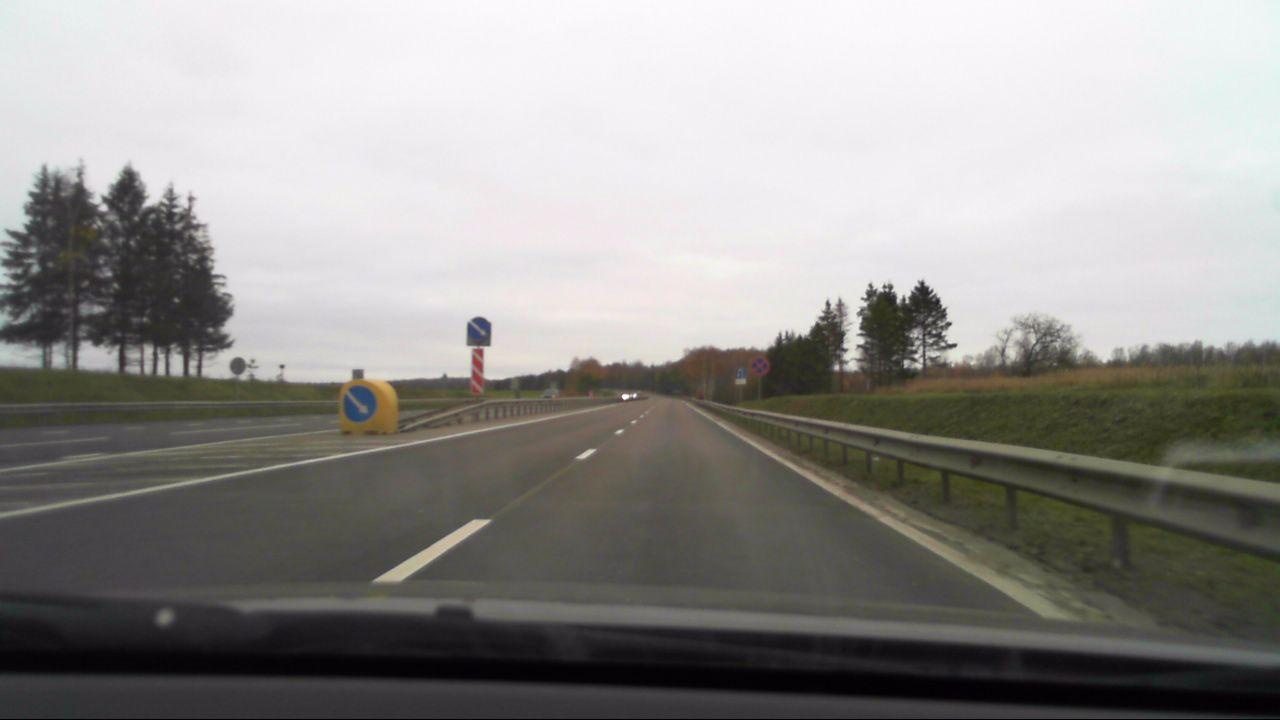No Parking: (750, 354, 773, 377)
